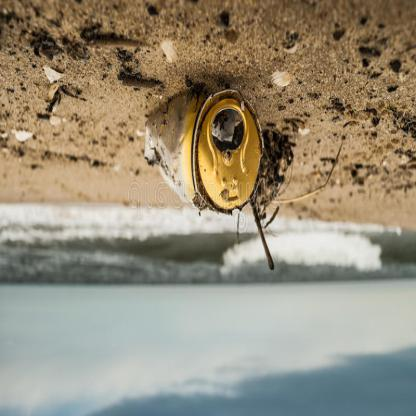Metal: (142, 79, 264, 216)
